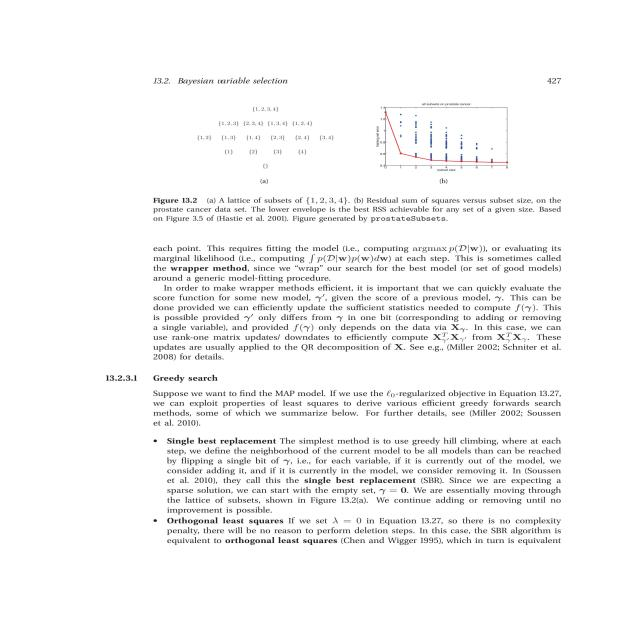diagram: (105, 98, 640, 235)
